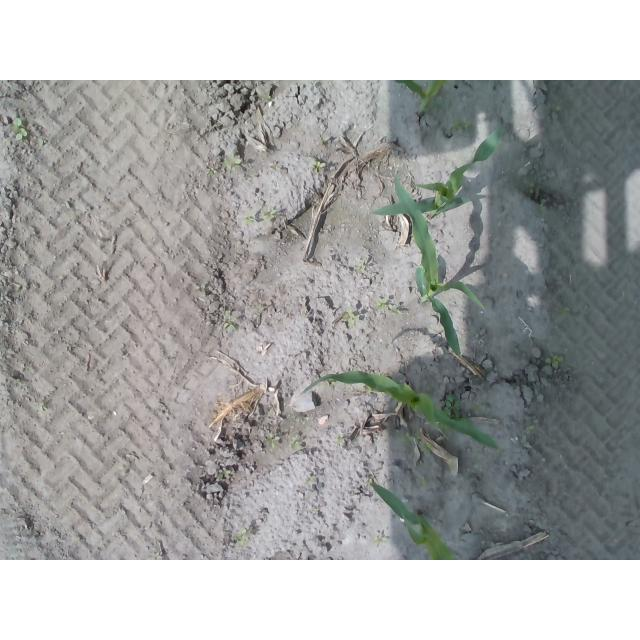Maize: (393, 172, 489, 358), (299, 370, 498, 450), (370, 124, 504, 216), (367, 478, 458, 560), (394, 80, 452, 118)
Weeds: (243, 208, 278, 224), (544, 351, 569, 370), (444, 395, 462, 417), (12, 118, 28, 140), (263, 434, 281, 451), (379, 297, 398, 313), (554, 305, 572, 321), (222, 312, 234, 333), (224, 156, 242, 169), (238, 527, 251, 545), (345, 309, 358, 326), (456, 118, 473, 129), (216, 466, 230, 479), (420, 440, 432, 455), (552, 97, 563, 112), (528, 182, 541, 194), (400, 432, 412, 444), (290, 437, 302, 449), (527, 423, 538, 434), (312, 160, 327, 168), (471, 403, 481, 414), (539, 200, 546, 213), (39, 136, 48, 145), (336, 434, 344, 443), (264, 95, 272, 101)
